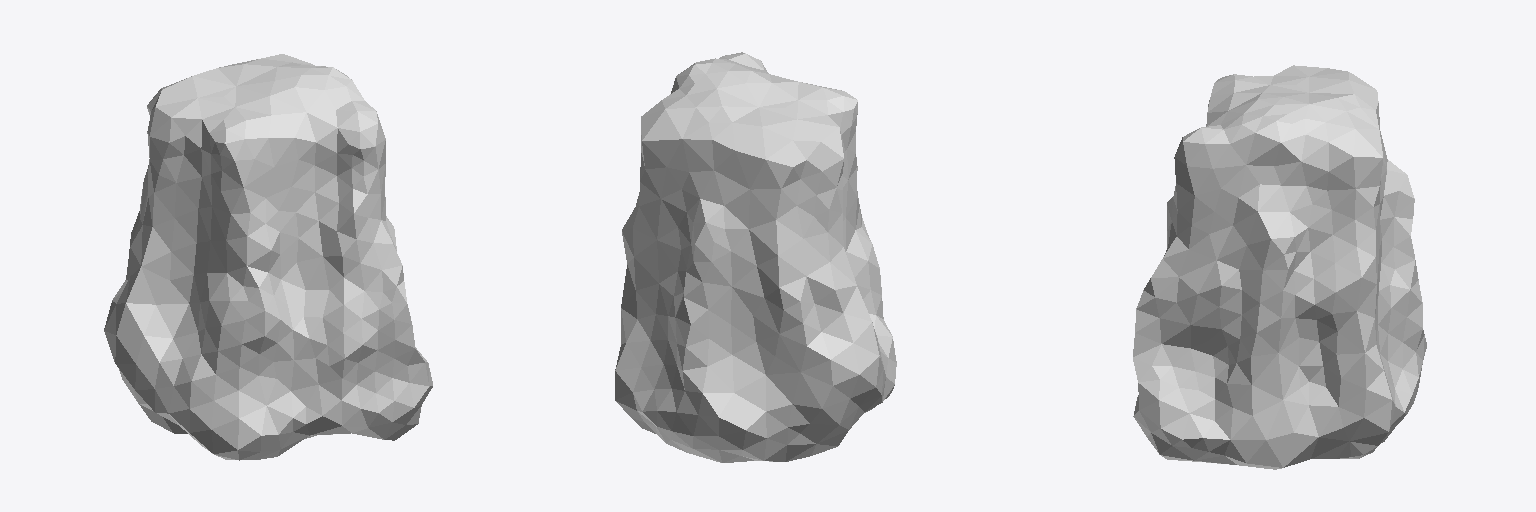
Rendered from rockC.obj.
The picture shows the model from 3 angles: view 1: azimuth 30°, elevation 25°; view 2: azimuth 150°, elevation 25°; view 3: azimuth 270°, elevation 25°; orthographic projection.
Visible parts, largest first — view 1: RockSet05C; view 2: RockSet05C; view 3: RockSet05C.
Part boxes in pixels (bbox=[...]): RockSet05C: bbox=[104, 54, 432, 460]; RockSet05C: bbox=[615, 52, 896, 462]; RockSet05C: bbox=[1133, 65, 1426, 469].
Size of the model in its own units: 2.49 by 3.25 by 2.52.